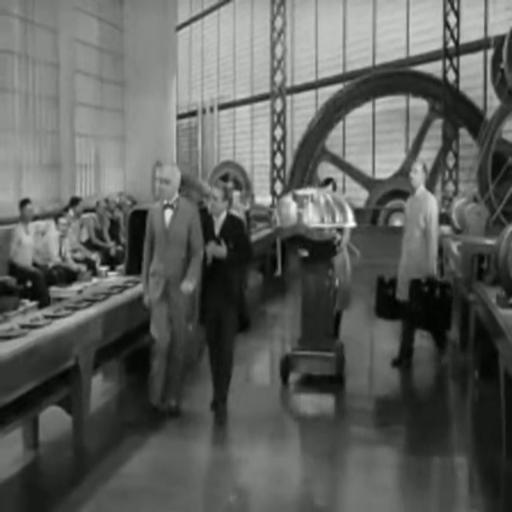nao-violencia: (112, 153, 261, 424)
